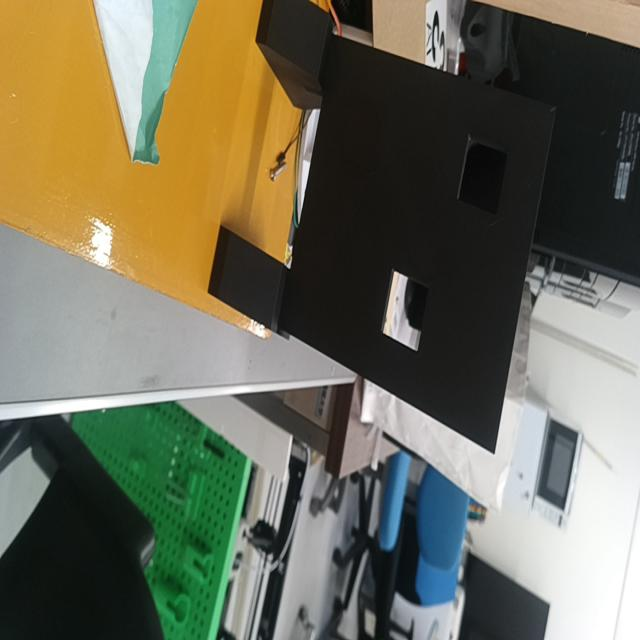Obstacle: (383, 269, 428, 351), (457, 139, 504, 212)
Wall: (280, 35, 554, 452)
